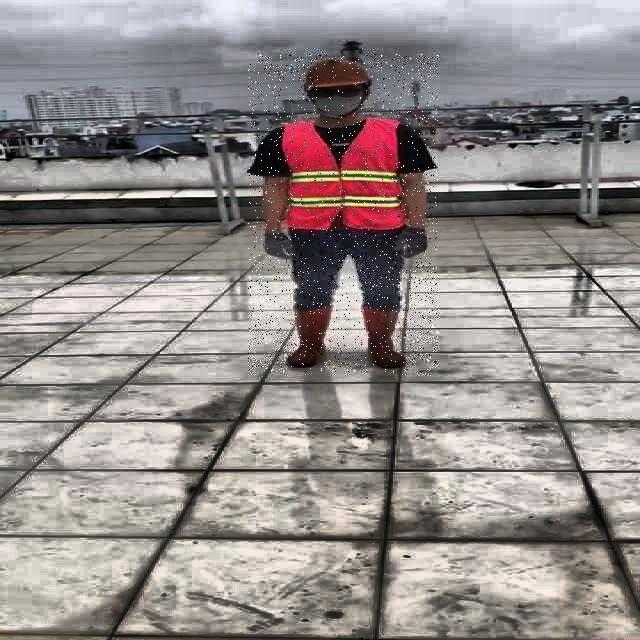safety_helmet: (297, 56, 372, 90)
safety_jacket: (279, 119, 409, 232)
